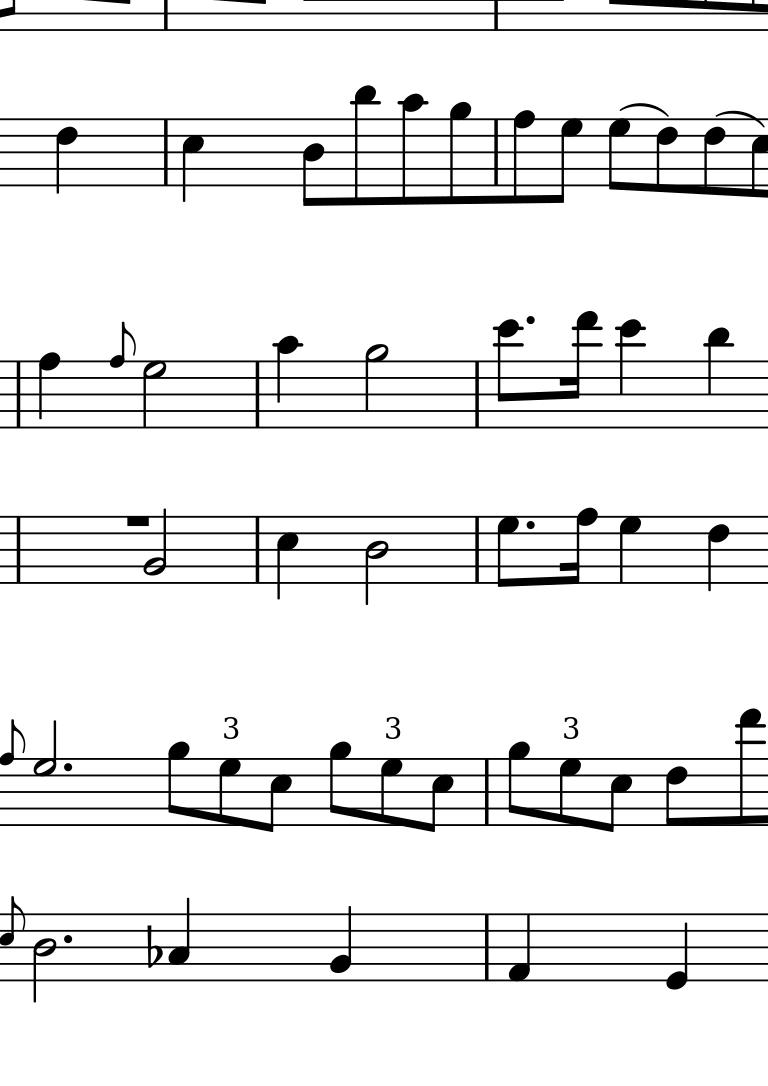16_13: (561, 309, 598, 430)
16_8: (561, 505, 597, 588)
2_2: (143, 508, 170, 587)
2_4: (363, 512, 395, 608), (33, 912, 58, 1003)
2_7: (31, 716, 60, 831), (142, 358, 171, 430)
2_9: (364, 344, 392, 430)
3: (383, 715, 401, 741), (562, 714, 578, 740), (221, 716, 238, 739)
4_0: (666, 911, 693, 993)
4_1: (507, 913, 538, 982)
4_10: (274, 335, 303, 429)
4_11: (705, 326, 732, 430)
4_12: (616, 319, 647, 429)
4_2: (327, 905, 356, 984)
4_3: (167, 896, 193, 983)
4_5: (274, 513, 302, 603), (180, 116, 206, 201)
4_6: (704, 514, 732, 593), (54, 115, 80, 196)
4_7: (616, 515, 644, 586)
4_8: (35, 351, 62, 432)
8_10: (399, 94, 427, 208)
8_11: (351, 84, 378, 209)
8_12: (494, 319, 523, 429)
8_13: (736, 708, 763, 832)
8_4: (300, 116, 326, 212)
8_5: (422, 757, 458, 833), (263, 757, 294, 834), (603, 757, 632, 835)
8_6: (652, 115, 682, 195), (699, 115, 727, 197), (663, 757, 690, 828)
8_7: (550, 118, 586, 203), (495, 511, 523, 589), (556, 756, 585, 828), (215, 757, 244, 826), (606, 117, 632, 191), (377, 757, 403, 828)
8_8: (512, 109, 538, 207)
8_9: (447, 101, 474, 205), (505, 741, 532, 828), (166, 740, 192, 828), (328, 740, 352, 832)
Appoggiature: (108, 321, 136, 429), (1, 718, 27, 826), (1, 896, 26, 981)
Flat: (143, 925, 163, 969)
Rests1: (120, 512, 151, 529)
Single_barline: (8, 515, 33, 583), (466, 362, 489, 427), (247, 360, 268, 428), (248, 515, 268, 583), (156, 119, 177, 183), (467, 516, 486, 585), (10, 360, 28, 427), (479, 913, 497, 980), (478, 758, 495, 826), (487, 119, 504, 185)
Slur: (714, 109, 765, 129), (618, 101, 671, 118)
dot: (522, 518, 538, 532), (523, 313, 538, 325), (60, 933, 73, 945), (62, 761, 74, 772)
